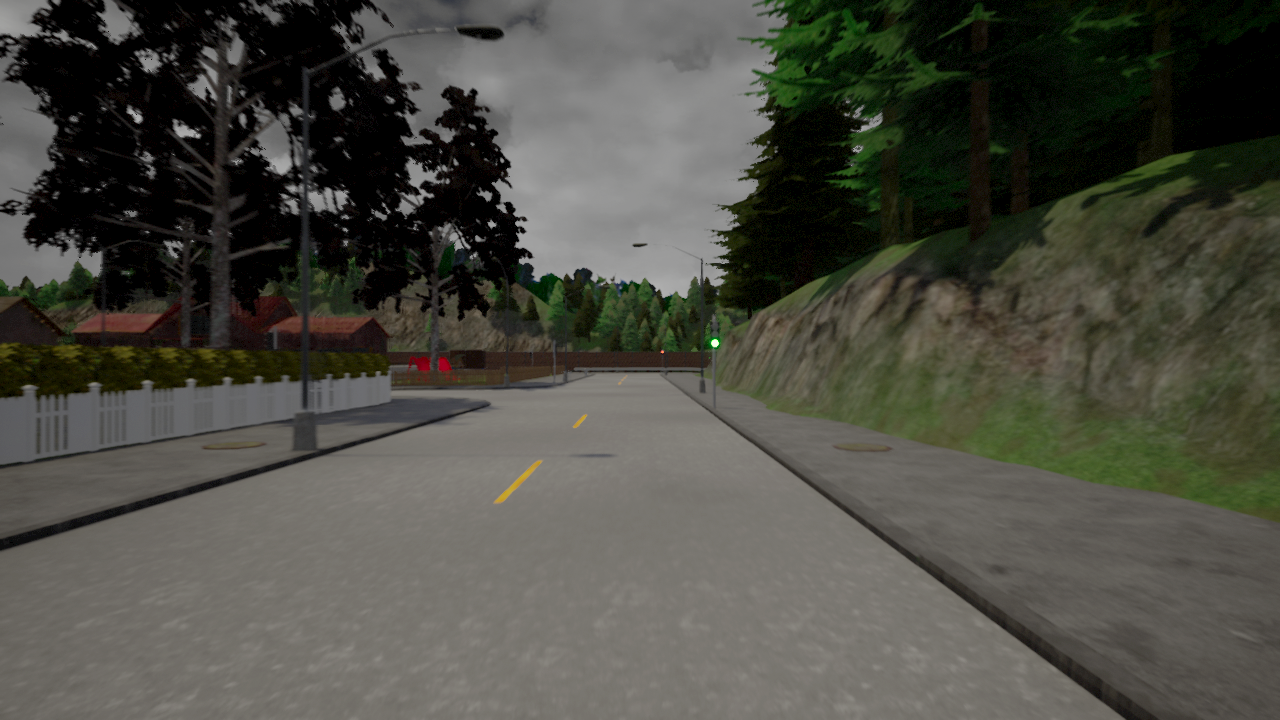green: (709, 319, 721, 350)
